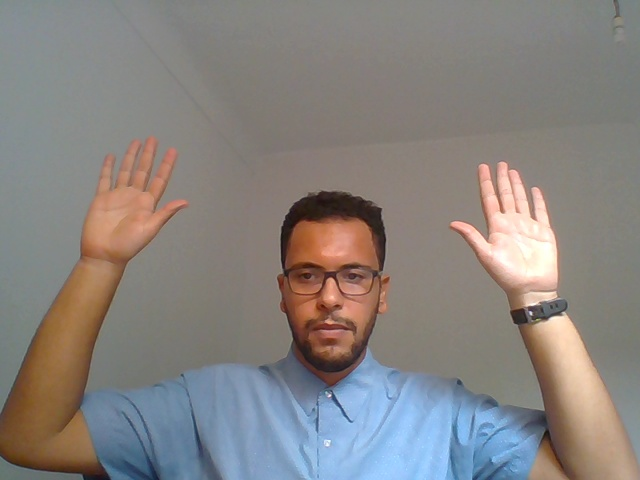hello: (437, 137, 605, 433), (28, 120, 190, 413)
